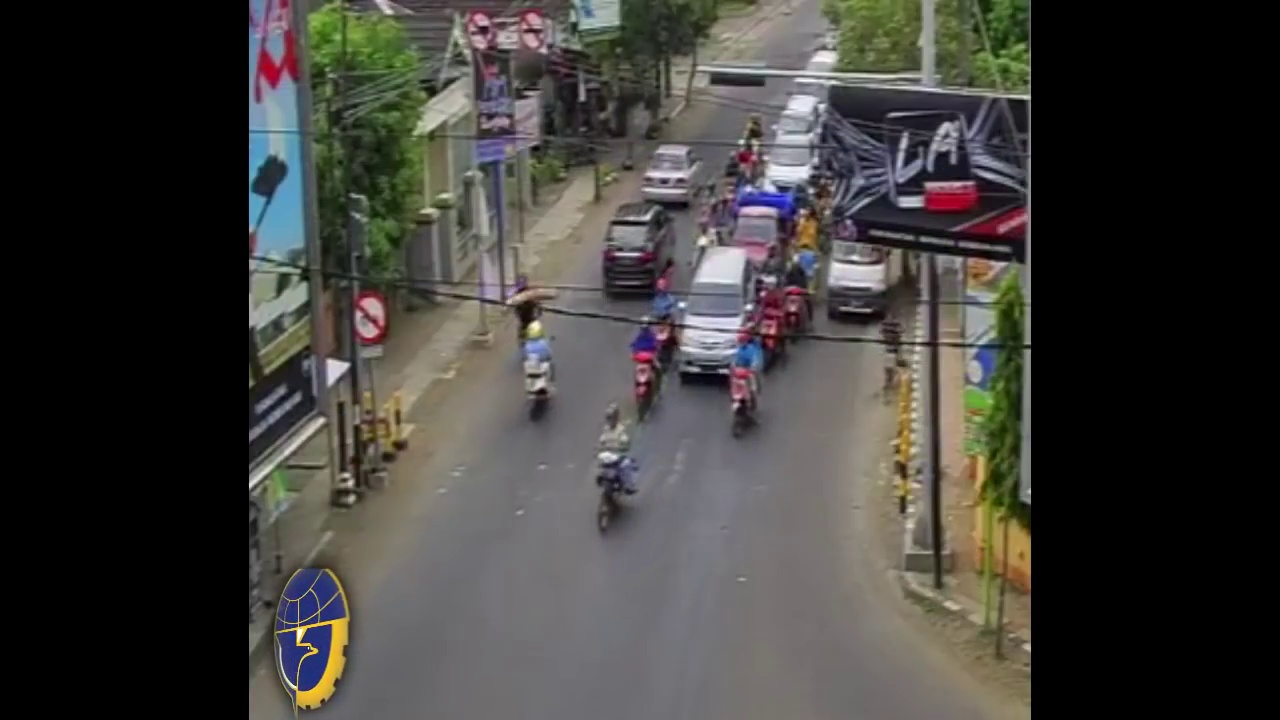car: (682, 244, 756, 386), (607, 202, 679, 293), (730, 205, 784, 282), (643, 145, 704, 209), (767, 133, 816, 206)
motorbike: (593, 408, 642, 537), (727, 334, 766, 436), (524, 321, 556, 421), (781, 256, 814, 345), (630, 315, 656, 415), (758, 276, 784, 368), (652, 279, 678, 370)
